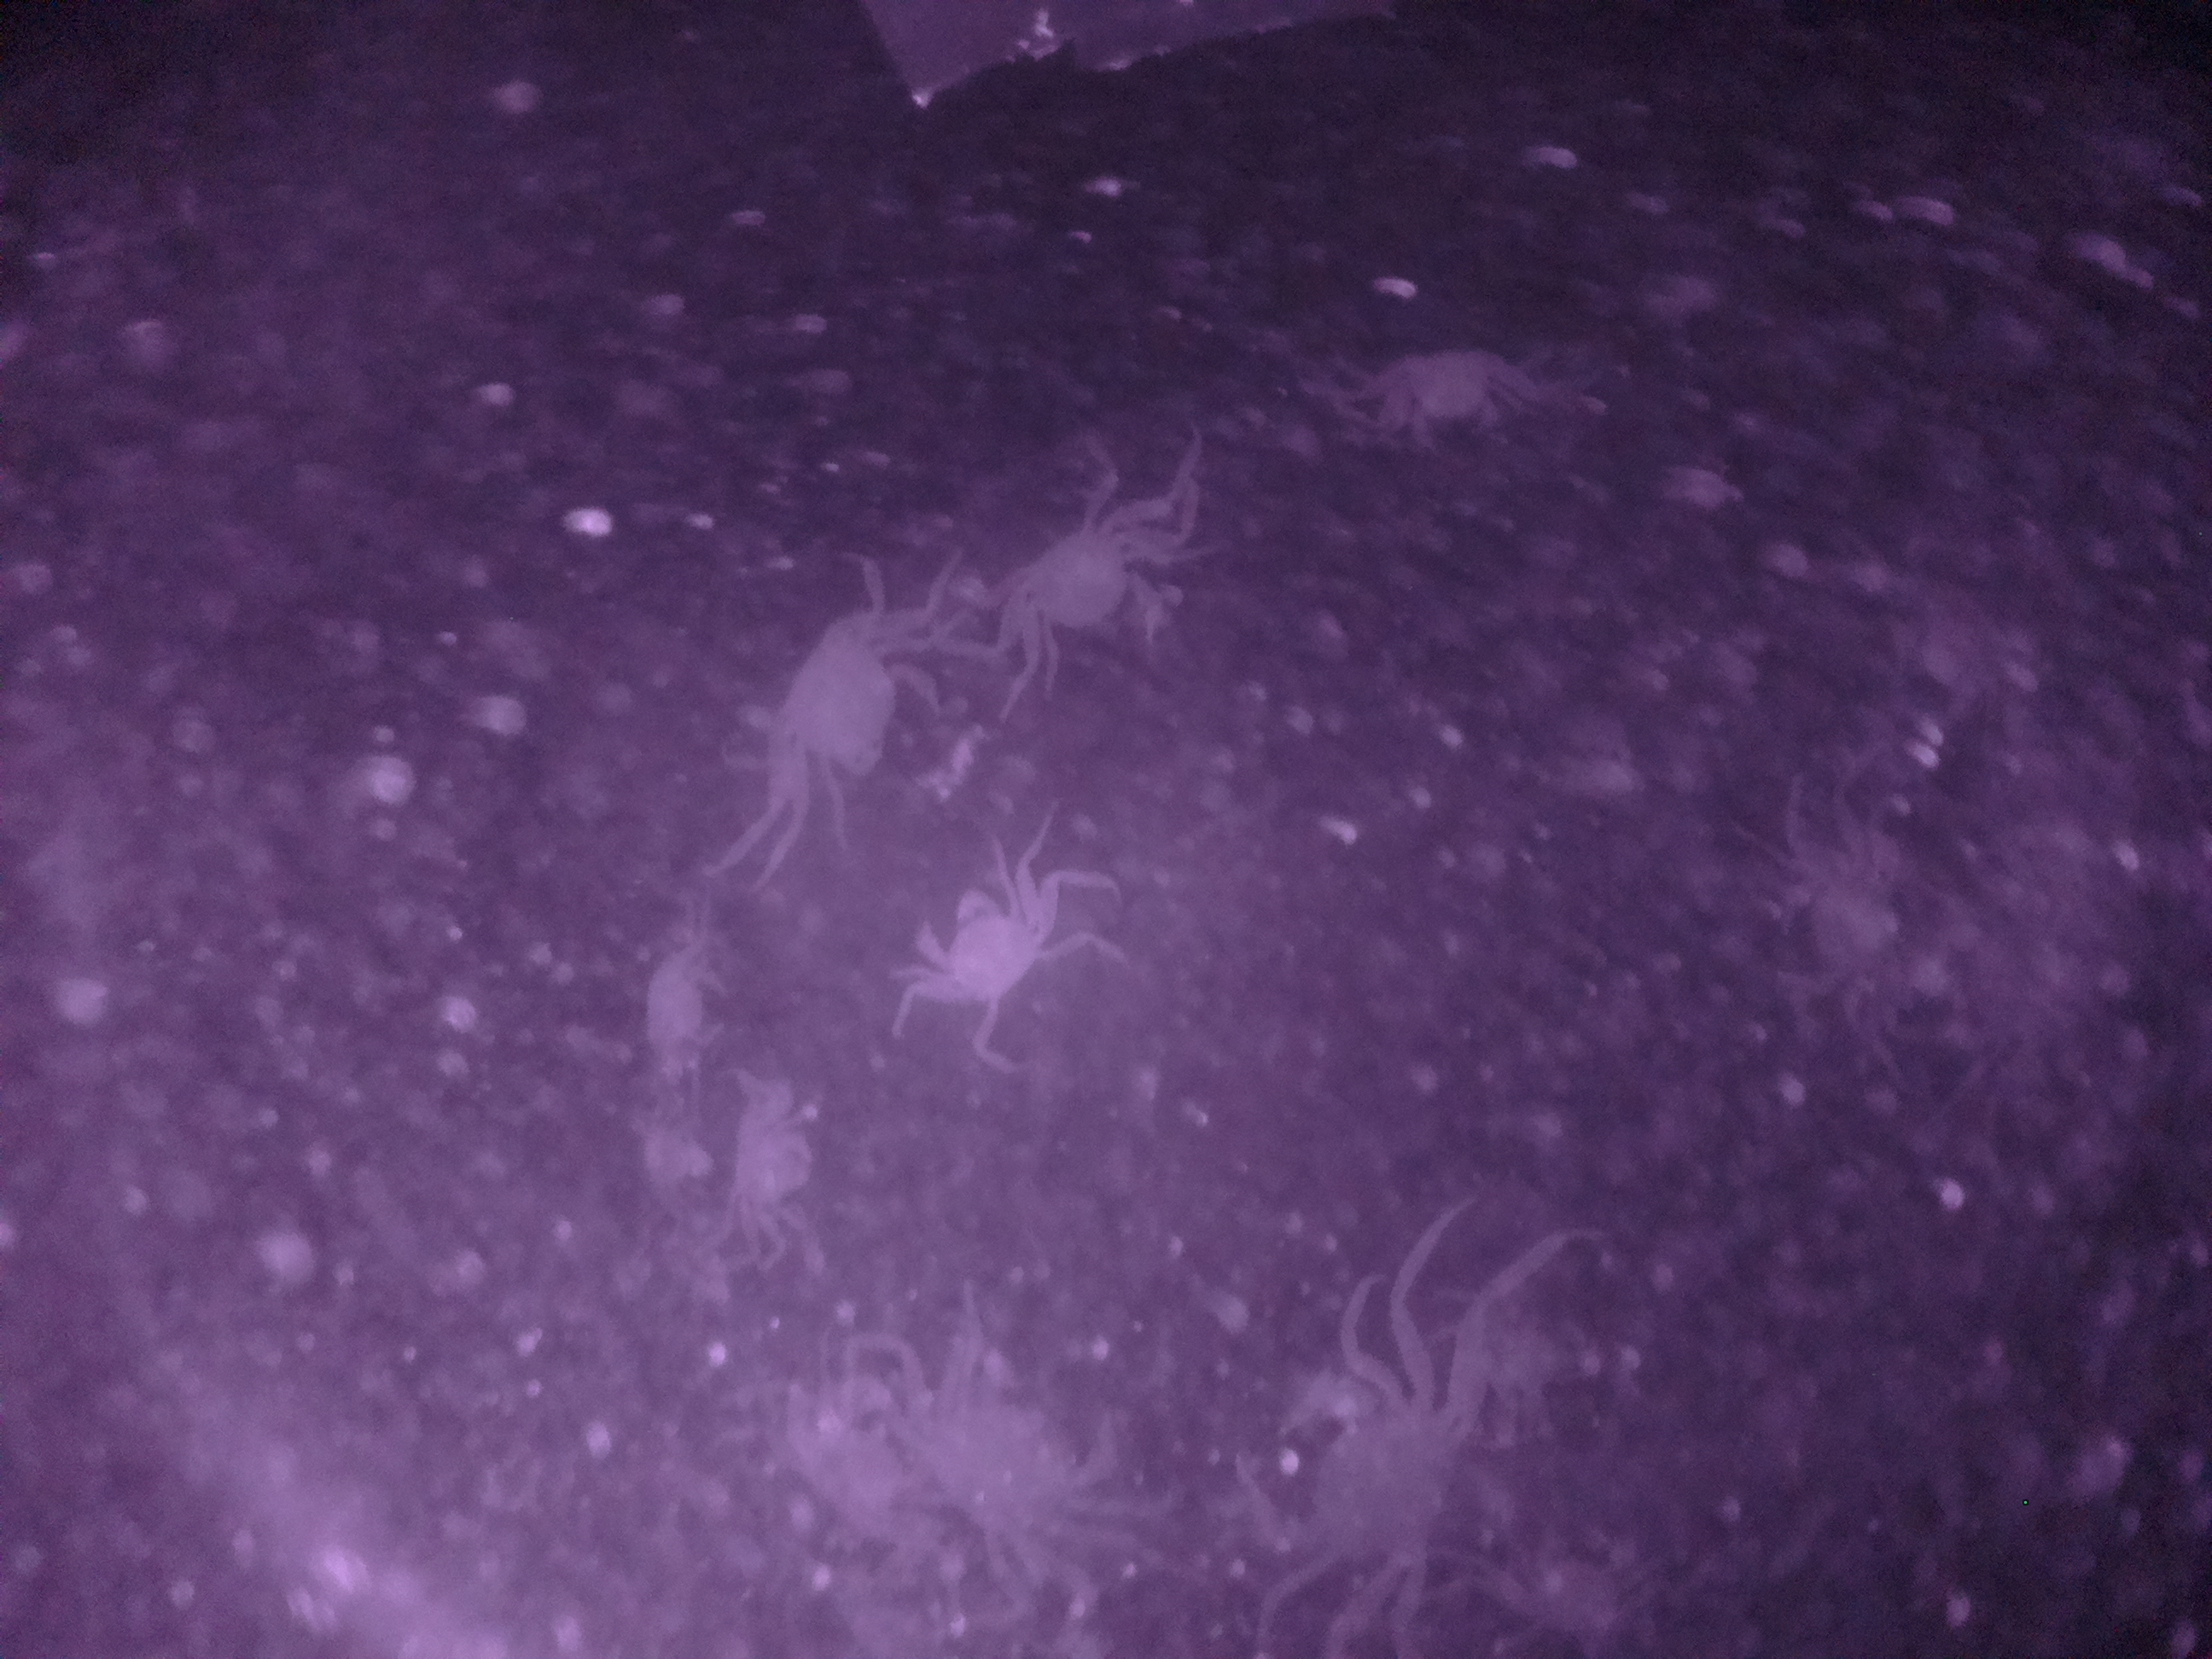Crab: (737, 587, 935, 805), (984, 484, 1170, 699), (906, 866, 1071, 1030)
